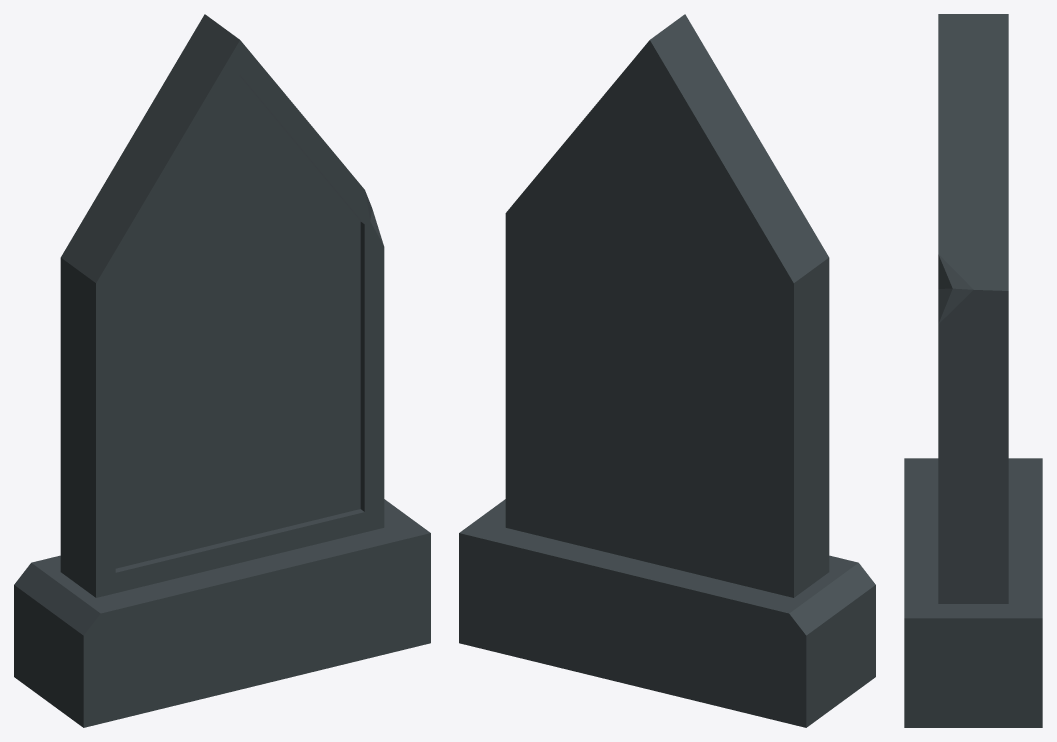
Rendered from tombstone_12.fbx.
The picture shows the model from 3 angles, left to right: view 1: azimuth 30°, elevation 25°; view 2: azimuth 150°, elevation 25°; view 3: azimuth 270°, elevation 25°; orthographic projection.
Visible parts, largest first — view 1: tombstone11; view 2: tombstone11; view 3: tombstone11.
Part boxes in pixels (x1,y1,x2,y2): tombstone11: (14,14,430,727); tombstone11: (459,14,875,727); tombstone11: (904,14,1042,727).
Size of the model in its own units: 0.8342 by 1.45 by 0.2894.
